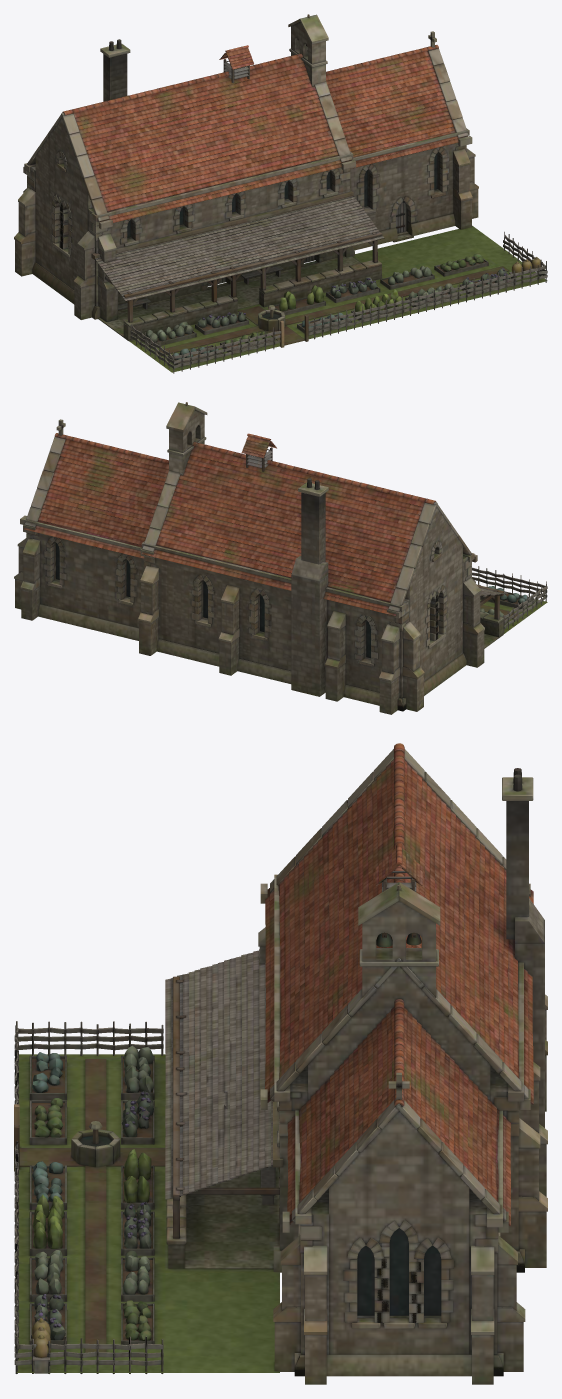
The model's file is temple.glb.
The picture shows the model from 3 angles, top to bottom: view 1: azimuth 30°, elevation 25°; view 2: azimuth 150°, elevation 25°; view 3: azimuth 270°, elevation 25°; orthographic projection. The views are drawn at different scales.
Visible parts, largest first — view 1: temple_LOD0; view 2: temple_LOD0; view 3: temple_LOD0.
Boxes of the visible parts, bbox=[...] form: temple_LOD0: bbox=[14, 14, 547, 373]; temple_LOD0: bbox=[14, 402, 547, 714]; temple_LOD0: bbox=[14, 743, 547, 1384].
Size of what is drawn, in the model's own units: 23.13 by 12.11 by 15.22.
1 material, 1 textured.
